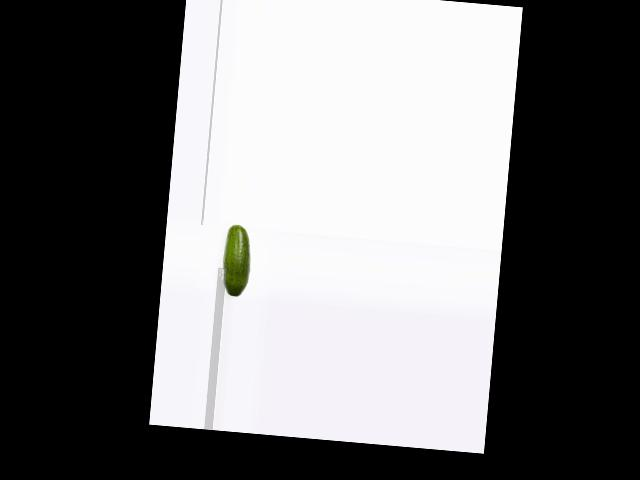cucumber: (219, 223, 253, 298)
